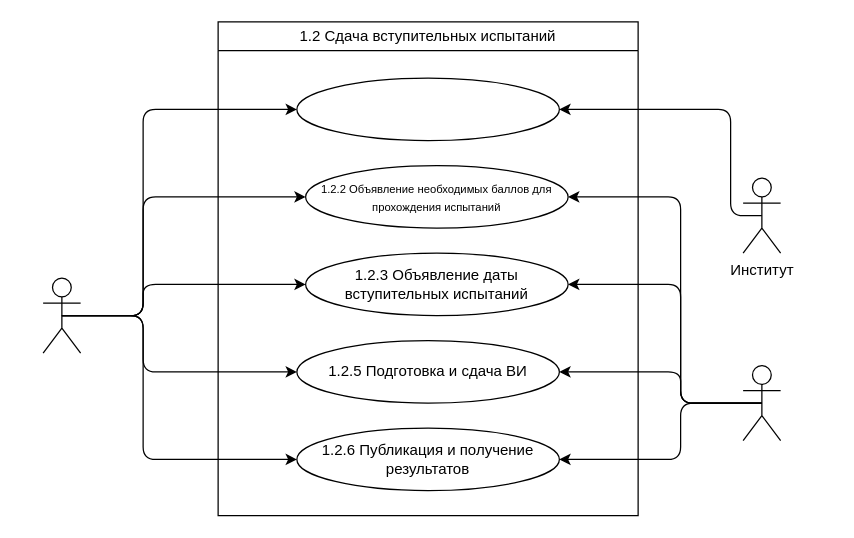
The diagram is 854 pixels wide and 538 high, and some of its shapes have lost their labels. The shapes that lost their labels are listed below. From the top down, each one's centre as x and y in pixels, then its label:
At [427,109]: "1.2.1 Подготовка вопросов по выбраному направлению".
At [61,315]: "Абитуриент".
At [761,402]: "Приемная комиссия".
